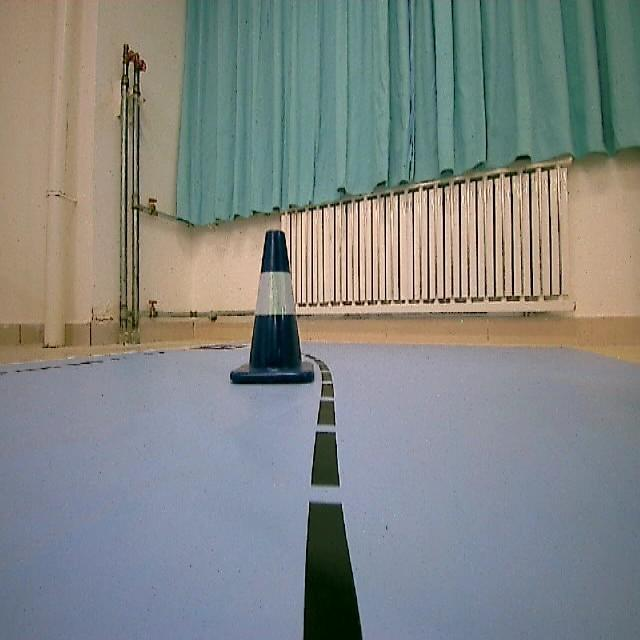obstacle: (231, 227, 308, 382)
